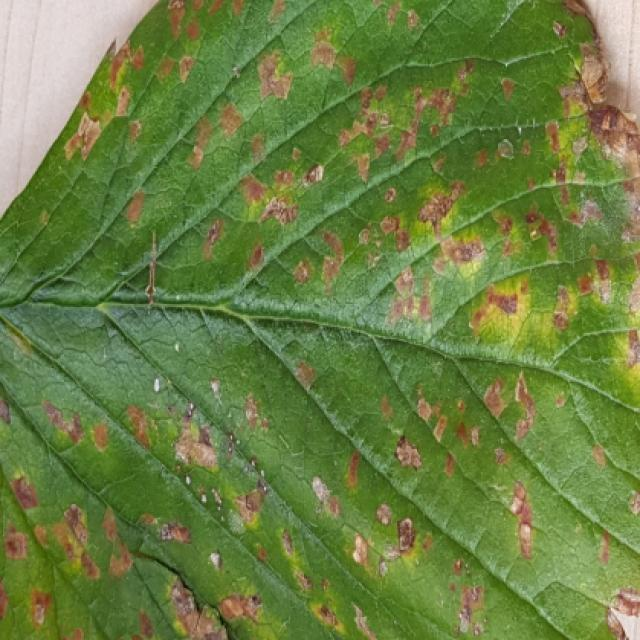Angular Leafspot: (0, 0, 638, 638)
